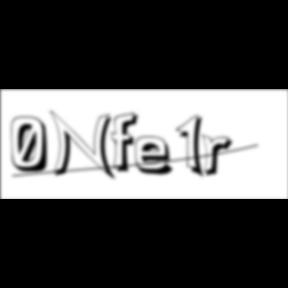0: (12, 115, 56, 174)
1: (176, 114, 210, 182)
N: (50, 109, 120, 183)
e: (135, 135, 181, 178)
f: (111, 111, 144, 175)
r: (201, 134, 239, 180)
